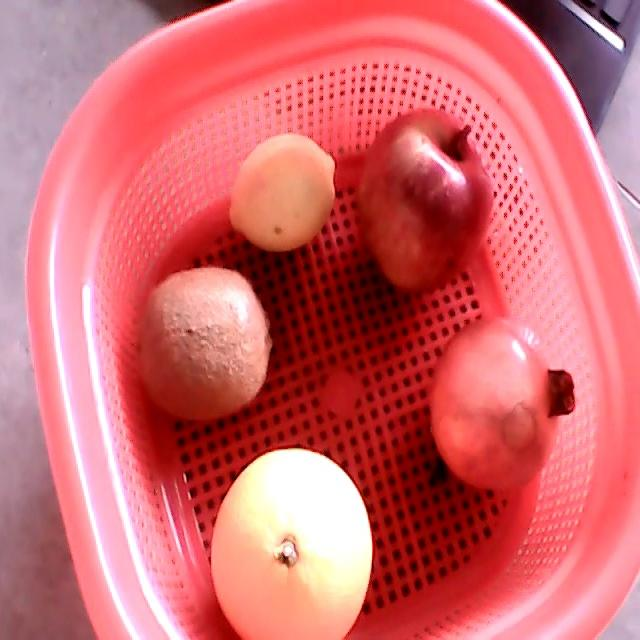apple: (357, 109, 494, 296), (136, 266, 273, 421)
lemon: (229, 133, 336, 251)
orange: (209, 448, 373, 638)
pomegranate: (429, 315, 576, 492)
